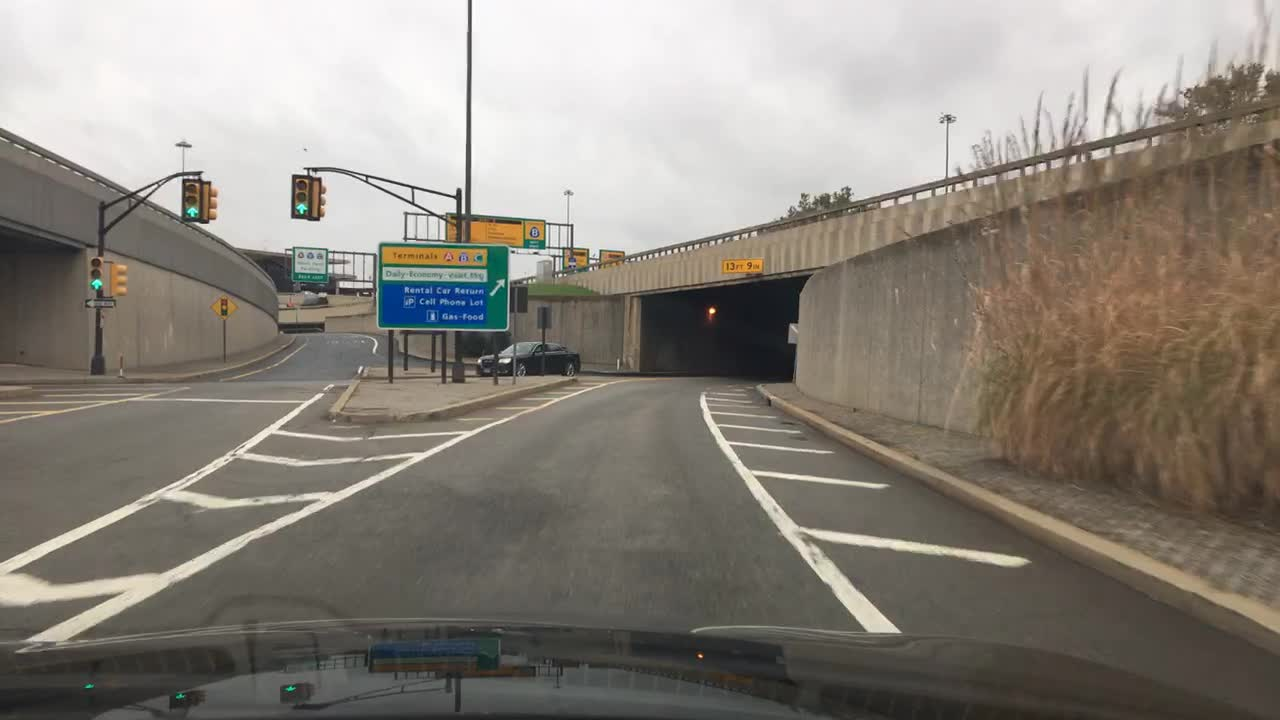car: (475, 341, 579, 380), (301, 290, 316, 305), (318, 293, 328, 305)
traffic light: (113, 262, 128, 296), (185, 182, 198, 218), (209, 185, 221, 224), (314, 178, 324, 221), (89, 254, 101, 287), (296, 176, 305, 217), (290, 170, 296, 217), (176, 182, 183, 209)
traffic sign: (379, 244, 506, 332), (446, 217, 543, 245), (292, 248, 326, 281), (212, 295, 238, 322), (563, 248, 590, 268), (82, 297, 116, 311), (599, 248, 624, 266), (538, 305, 550, 327)
